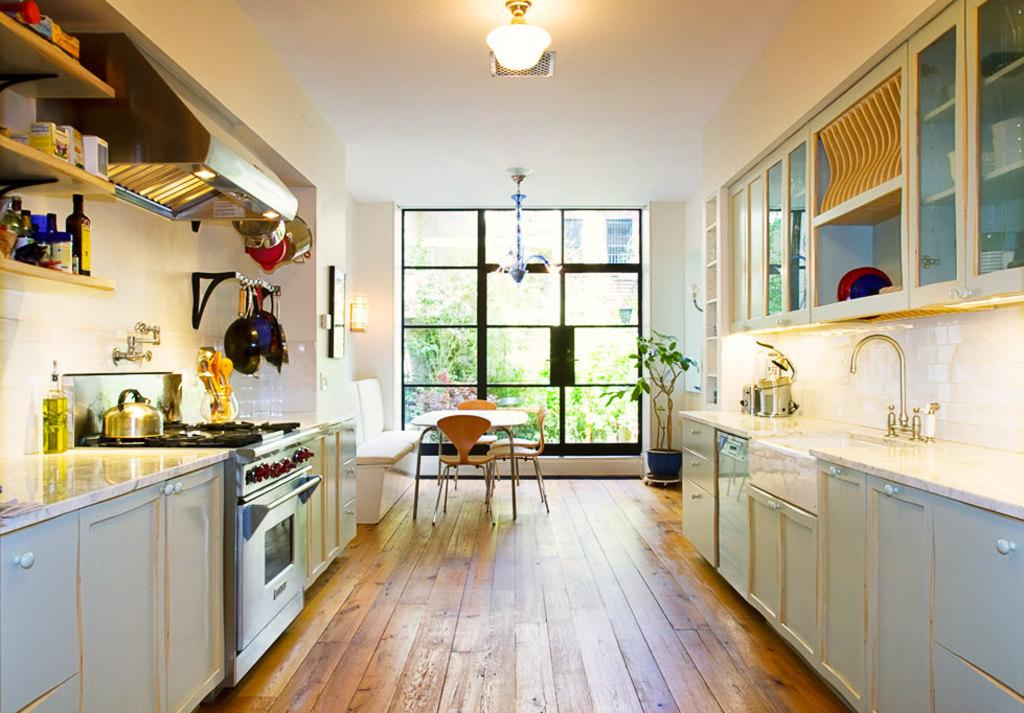cabinet_door: (76, 497, 166, 713), (904, 42, 974, 292), (931, 498, 1024, 668), (972, 7, 1024, 280), (177, 470, 237, 672), (874, 497, 930, 707), (822, 465, 870, 694), (0, 544, 78, 666), (781, 154, 817, 316), (762, 168, 790, 321), (779, 517, 812, 641), (744, 183, 771, 325), (746, 496, 778, 611), (728, 189, 751, 325), (684, 488, 718, 546), (686, 420, 714, 452), (338, 460, 360, 500), (686, 454, 714, 484), (339, 506, 364, 530), (338, 432, 356, 459)
handle: (256, 476, 322, 537), (12, 544, 38, 578), (993, 534, 1020, 562), (878, 479, 904, 505), (955, 279, 977, 306), (686, 486, 706, 510), (156, 482, 174, 507), (768, 498, 790, 518), (831, 460, 849, 482), (684, 426, 702, 444), (174, 477, 184, 505), (686, 460, 702, 474)
